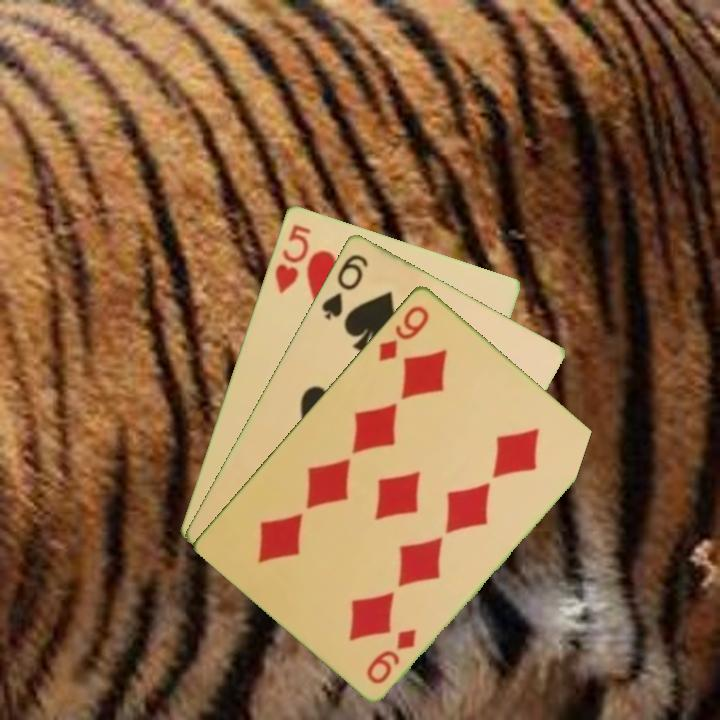5h: (271, 220, 314, 296)
6s: (318, 249, 371, 322)
9d: (375, 301, 432, 364), (362, 624, 419, 687)
